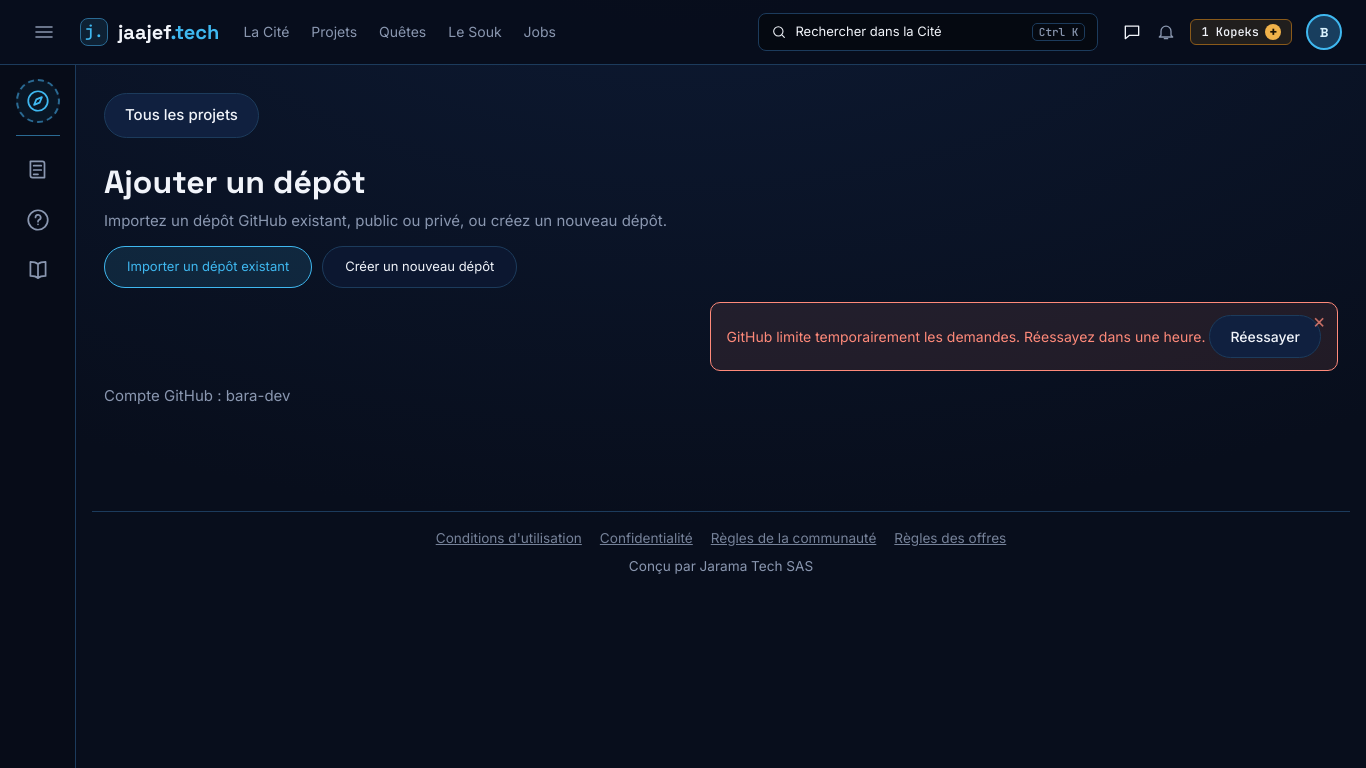
Import a project › tells the member when GitHub limits the requests, and retries on request
Expected: the text "GitHub limite temporairement les demandes. Réessayez dans une heure. Réessayer" is shown, [710, 302, 1338, 370]
Click the button "Réessayer". click: (1265,336)
box: [1209, 314, 1321, 358]
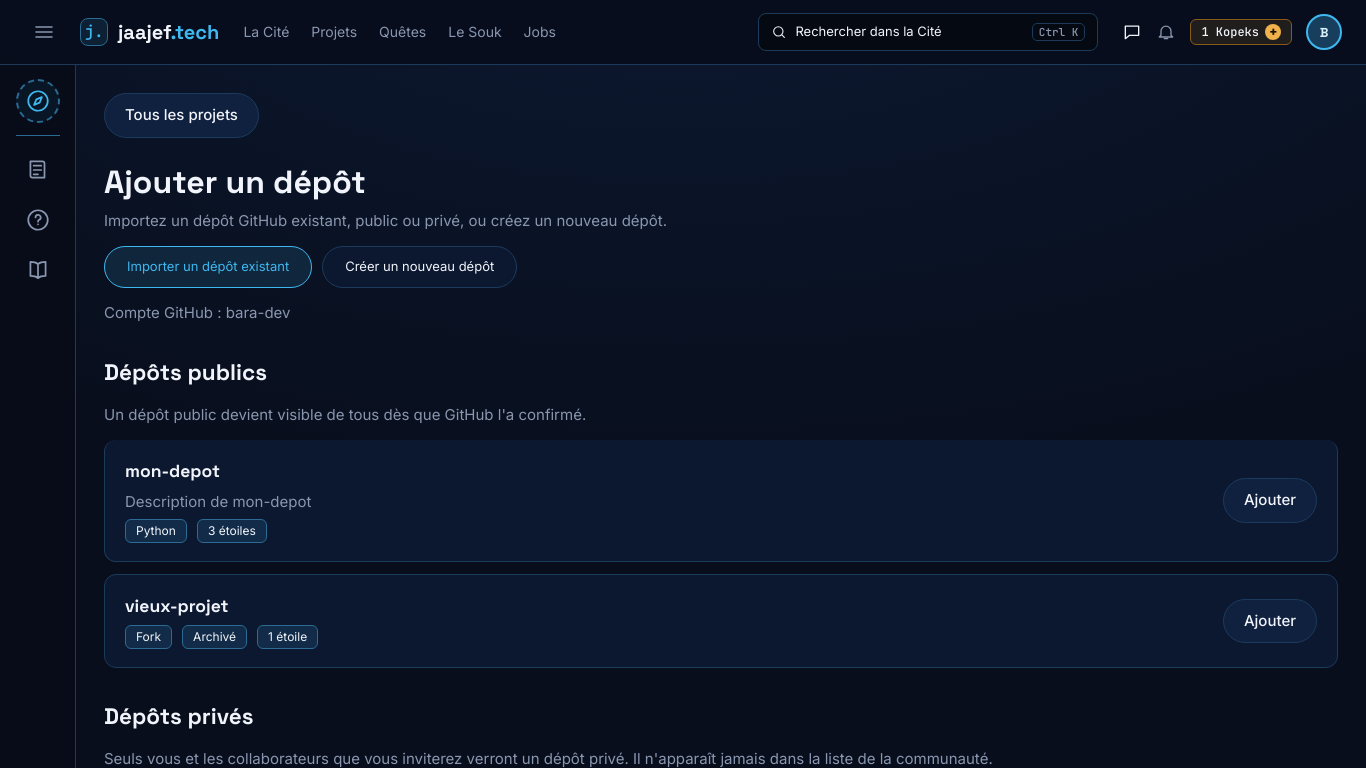
Expected: the heading "mon-depot" is shown, [125, 460, 220, 482]
